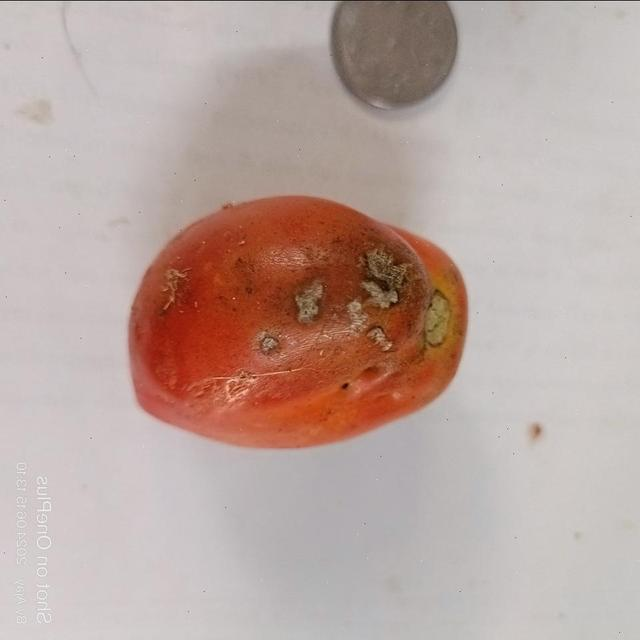Bacterial Spot Fruit: (167, 159, 282, 238)
